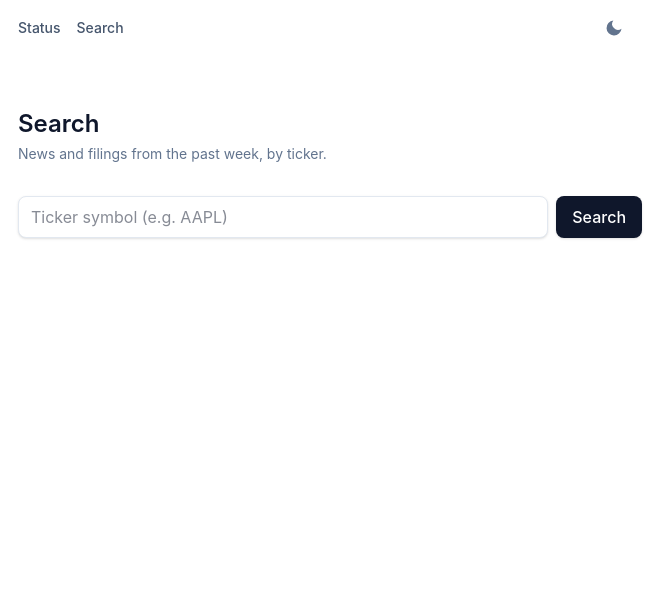
App navigation › navigates back to Status via the nav link
The width and height of the screenshot is (659, 594).
Step 1. Click the link "Search" → (100, 28), box top-left (77, 18), bottom-right (124, 38)
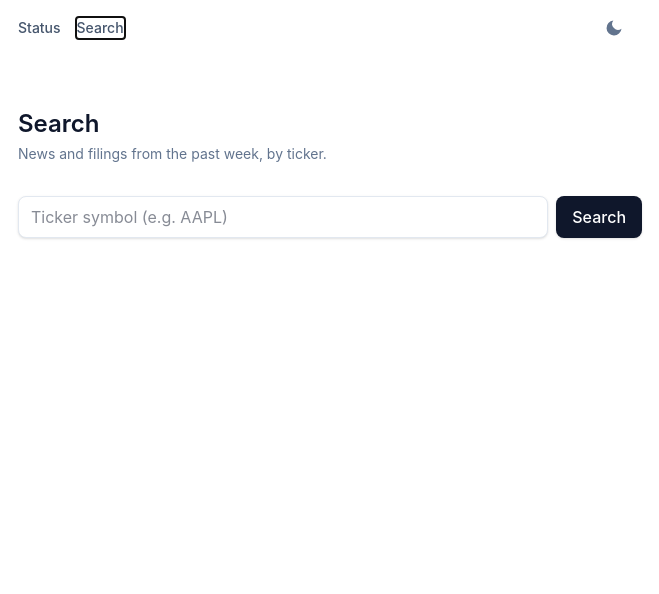
// navigate back to Status via the nav link.
Step 2. Click the link "Status" → (39, 28), box top-left (18, 18), bottom-right (61, 38)
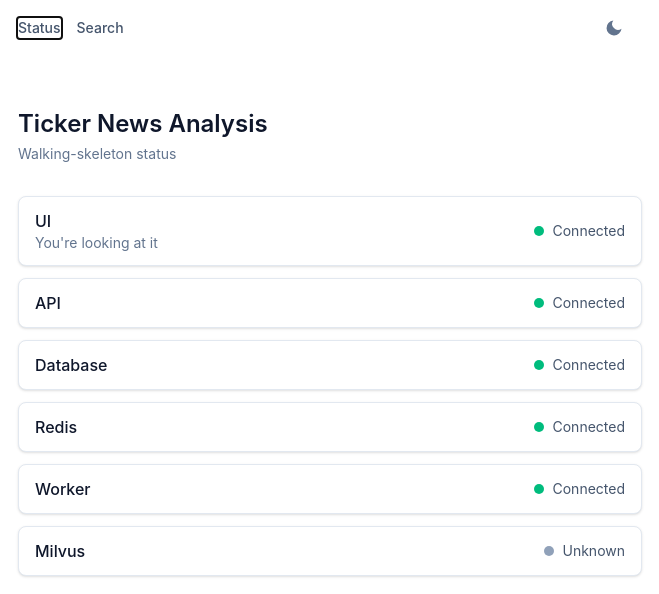
expect the heading "Ticker News Analysis" is shown: met, box top-left (18, 109), bottom-right (268, 138)
